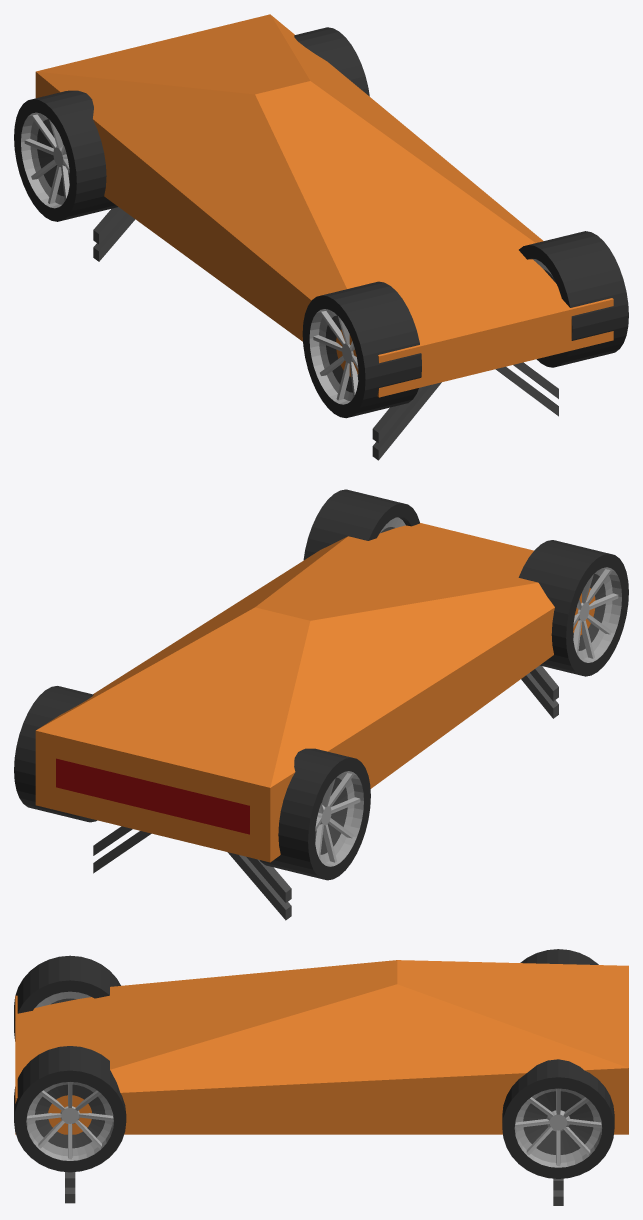
File: car.glb
The picture shows the model from 3 angles, top to bottom: view 1: azimuth 30°, elevation 25°; view 2: azimuth 150°, elevation 25°; view 3: azimuth 270°, elevation 25°; orthographic projection. The views are drawn at different scales.
Parts seen in each view (by area): view 1: Body, WheelFR, WheelBR, WheelFL, WheelBL, SuspensionFR, SuspensionBR, SuspensionFL; view 2: Body, WheelBR, WheelFR, WheelFL, WheelBL, SuspensionBR, SuspensionFR, SuspensionBL; view 3: Body, WheelFL, WheelBL, WheelFR, WheelBR.
Part boxes in pixels (x1=…): Body: x1=35, y1=14, x2=613, y2=397; WheelFR: x1=302, y1=281, x2=421, y2=418; WheelBR: x1=14, y1=90, x2=117, y2=221; WheelFL: x1=519, y1=231, x2=628, y2=367; WheelBL: x1=294, y1=27, x2=369, y2=96; SuspensionFR: x1=372, y1=382, x2=441, y2=460; SuspensionBR: x1=93, y1=207, x2=135, y2=261; SuspensionFL: x1=495, y1=362, x2=558, y2=416; Body: x1=35, y1=523, x2=595, y2=862; WheelBR: x1=259, y1=748, x2=370, y2=880; WheelFR: x1=518, y1=540, x2=628, y2=676; WheelFL: x1=303, y1=489, x2=419, y2=559; WheelBL: x1=14, y1=686, x2=97, y2=822; SuspensionBR: x1=227, y1=852, x2=291, y2=920; SuspensionFR: x1=521, y1=665, x2=558, y2=718; SuspensionBL: x1=93, y1=826, x2=151, y2=873; Body: x1=15, y1=960, x2=628, y2=1134; WheelFL: x1=14, y1=1046, x2=126, y2=1172; WheelBL: x1=502, y1=1059, x2=614, y2=1178; WheelFR: x1=14, y1=955, x2=120, y2=1041; WheelBR: x1=520, y1=949, x2=598, y2=964.
Size of what is drawn, in the model's own units: 1.79 by 1.25 by 3.62.
